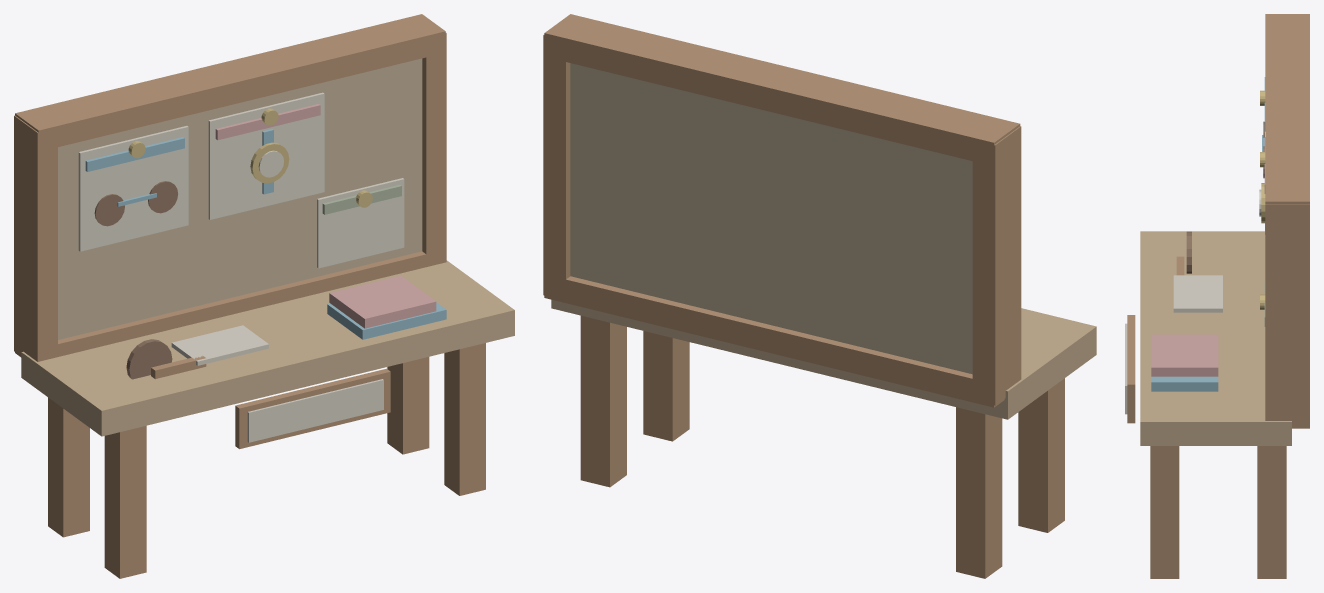
Rendered from evidence_station.glb.
3 renders of one model, left to right at view 1: azimuth 30°, elevation 25°; view 2: azimuth 150°, elevation 25°; view 3: azimuth 270°, elevation 25°, orthographic. The views are drawn at different scales.
Visible parts, largest first — view 1: Board_Cork, Table_Top, Board_Frame_Top, Board_Frame_Side_-0.95, Clue_Paper_1, Clue_Paper_0, Board_Frame_Bottom, Leg_-0.83_0.51, Leg_0.83_0.51, Clue_Paper_2, Leg_-0.83_0.03, Board_Frame_Side_0.95 (+14 smaller); view 2: Board_Cork, Board_Frame_Top, Board_Frame_Bottom, Board_Frame_Side_-0.95, Table_Top, Leg_0.83_0.03, Leg_-0.83_0.03, Board_Frame_Side_0.95, Leg_-0.83_0.51, Leg_0.83_0.51; view 3: Table_Top, Board_Frame_Side_0.95, Board_Frame_Top, Leg_0.83_0.03, Leg_0.83_0.51, Notebook_1, Evidence_Card_Desk, Notebook_0, Station_Label_Back, Station_Label_Face, Magnifier_Ring.
Part boxes in pixels (box(x1,y1,x2,y2)): Board_Cork: box(58, 58, 422, 339); Table_Top: box(21, 260, 514, 436); Board_Frame_Top: box(15, 14, 445, 151); Board_Frame_Side_-0.95: box(14, 115, 57, 361); Clue_Paper_1: box(208, 92, 324, 219); Clue_Paper_0: box(78, 126, 188, 251); Board_Frame_Bottom: box(15, 249, 445, 361); Leg_-0.83_0.51: box(104, 425, 146, 578); Leg_0.83_0.51: box(444, 343, 485, 495); Clue_Paper_2: box(317, 178, 404, 268); Leg_-0.83_0.03: box(48, 397, 89, 537); Board_Frame_Side_0.95: box(422, 32, 446, 262); Board_Cork: box(570, 63, 972, 374); Board_Frame_Top: box(544, 14, 1020, 166); Board_Frame_Bottom: box(544, 274, 1004, 407); Board_Frame_Side_-0.95: box(972, 126, 1021, 405); Table_Top: box(551, 299, 1096, 419); Leg_0.83_0.03: box(580, 315, 626, 487); Leg_-0.83_0.03: box(956, 407, 1002, 578); Board_Frame_Side_0.95: box(543, 35, 570, 300); Leg_-0.83_0.51: box(1018, 378, 1064, 532); Leg_0.83_0.51: box(643, 331, 689, 441); Table_Top: box(1140, 231, 1291, 445); Board_Frame_Side_0.95: box(1265, 204, 1309, 426); Board_Frame_Top: box(1265, 14, 1309, 203); Leg_0.83_0.03: box(1257, 446, 1286, 578); Leg_0.83_0.51: box(1150, 446, 1179, 578); Notebook_1: box(1151, 334, 1218, 376); Evidence_Card_Desk: box(1173, 275, 1222, 312); Notebook_0: box(1151, 376, 1218, 391); Station_Label_Back: box(1127, 315, 1135, 423); Station_Label_Face: box(1125, 323, 1127, 414); Magnifier_Ring: box(1186, 231, 1191, 273).
Size of the model in its own units: 2.02 by 1.91 by 0.828.
